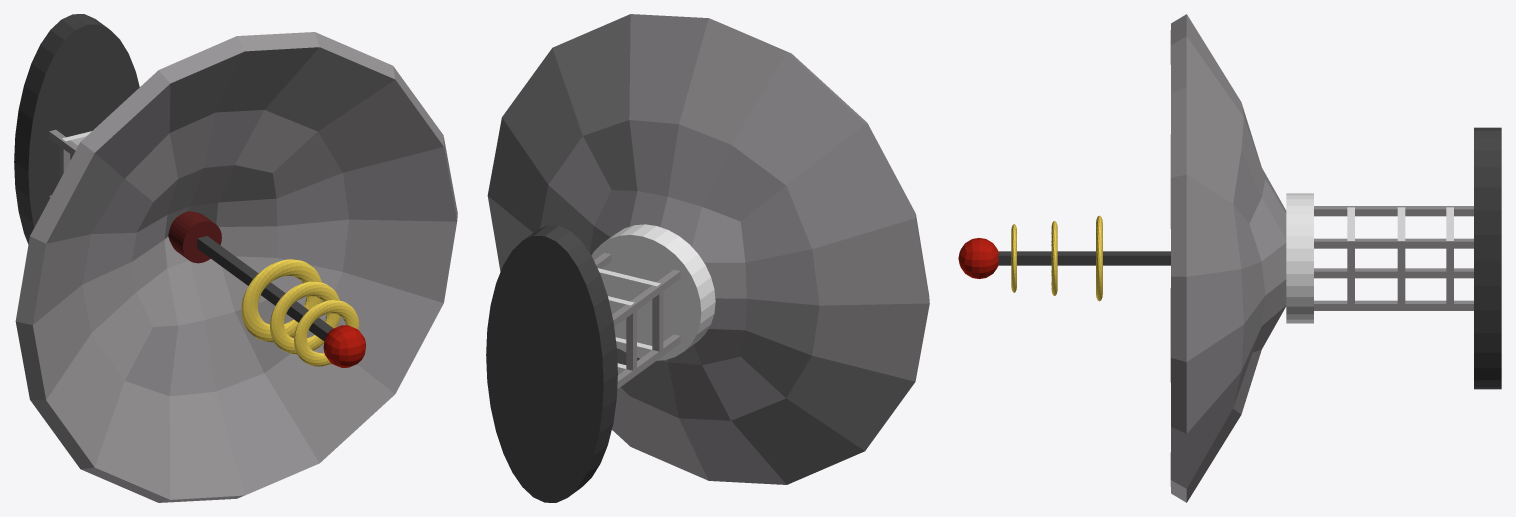
File: parabolicacolor.fbx
3 renders of one model, left to right at view 1: azimuth 30°, elevation 25°; view 2: azimuth 150°, elevation 25°; view 3: azimuth 270°, elevation 25°, orthographic. The views are drawn at different scales.
Visible parts, largest first — view 1: Roundcube, Cylinder.001, TwistedTorus.002, TwistedTorus.001, Cube, Cylinder.002, TwistedTorus, Roundcube.001; view 2: Roundcube, Cylinder.001, Cylinder, Cube.001, Cube.004, Cube.002, Cube.003; view 3: Roundcube, Cylinder.001, Cube.001, Cylinder, Cube, Roundcube.001.
Boxes of the visible parts, x1,y1,x2,y2 form: Roundcube: (15, 32, 457, 502); Cylinder.001: (14, 14, 139, 244); TwistedTorus.002: (241, 259, 321, 342); TwistedTorus.001: (270, 281, 340, 354); Cube: (197, 236, 333, 341); Cylinder.002: (168, 211, 221, 263); TwistedTorus: (294, 300, 359, 366); Roundcube.001: (323, 325, 365, 367); Roundcube: (487, 14, 929, 484); Cylinder.001: (486, 225, 617, 502); Cylinder: (591, 224, 715, 360); Cube.001: (594, 252, 680, 388); Cube.004: (597, 268, 660, 355); Cube.002: (652, 288, 663, 354); Cube.003: (626, 307, 636, 373); Roundcube: (1170, 14, 1286, 502); Cylinder.001: (1474, 127, 1501, 389); Cube.001: (1314, 206, 1473, 310); Cylinder: (1286, 193, 1313, 323); Cube: (998, 251, 1170, 265); Roundcube.001: (958, 238, 998, 278).
Size of the model in its own units: 395 by 395 by 438.
